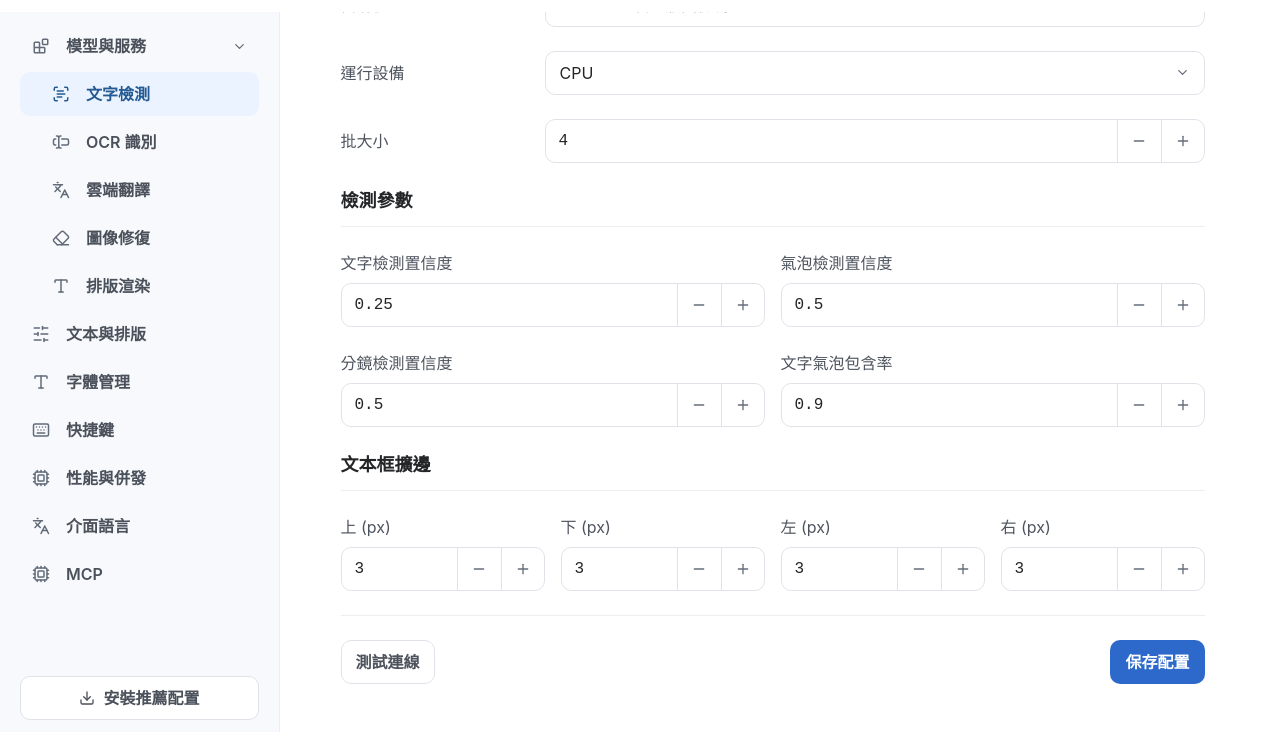
Test: classification model form › shows a localized success toast after model settings are saved in zh-TW
This screenshot has width=1280, height=732.
(page scrolled)
Expected: the field labelled "文字檢測置信度" is shown, [340, 283, 676, 327]
Click the button "保存配置".
click(1158, 662)  # box [1110, 640, 1204, 684]
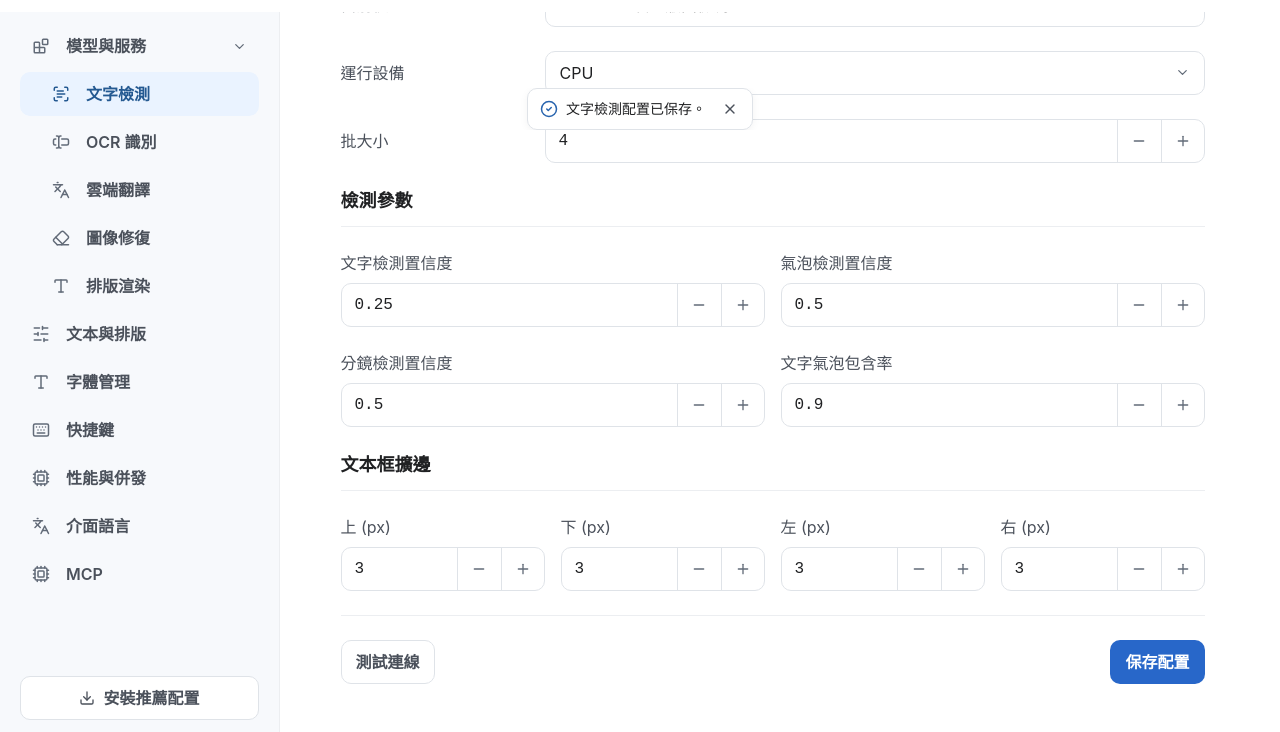
Result: the number of messages named "儲存成功" is 1 at [527, 88, 753, 130]
Click the button named "關閉提示".
click(730, 109)  # box [714, 93, 746, 125]
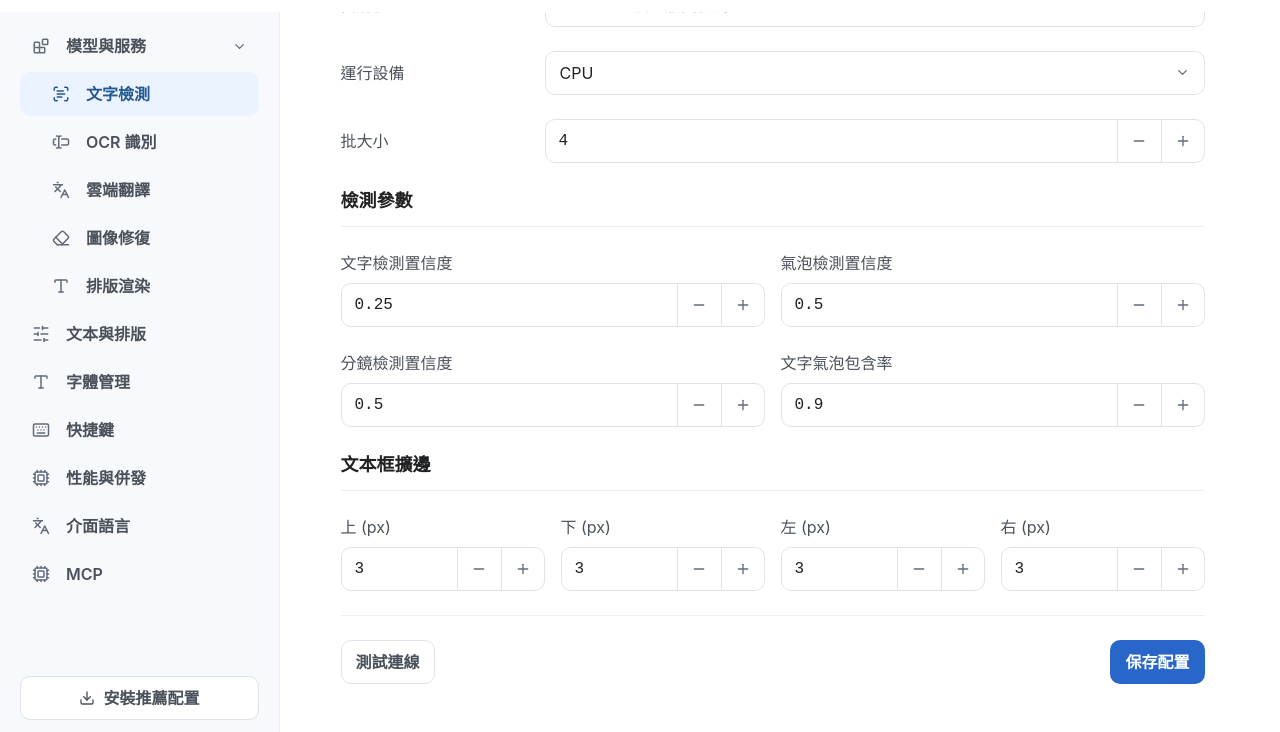
Expected: the button "保存配置" is enabled, [1110, 640, 1204, 684]
Result: the message "儲存成功" is gone
